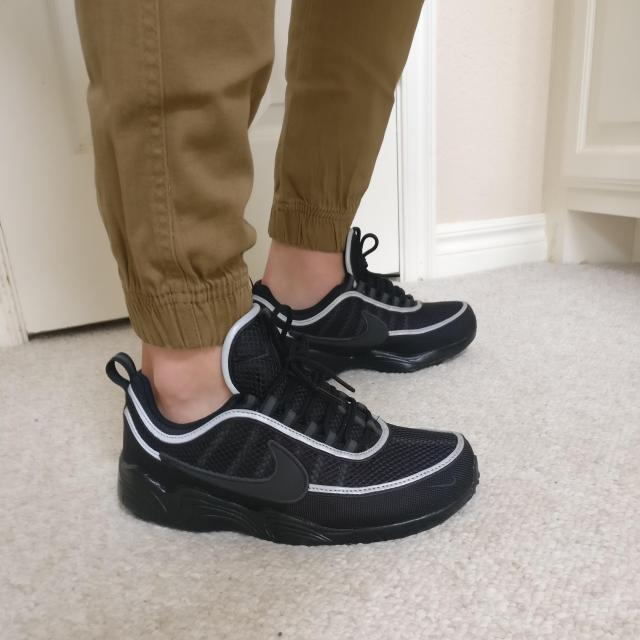shoes: (115, 331, 480, 545), (255, 230, 480, 373)
